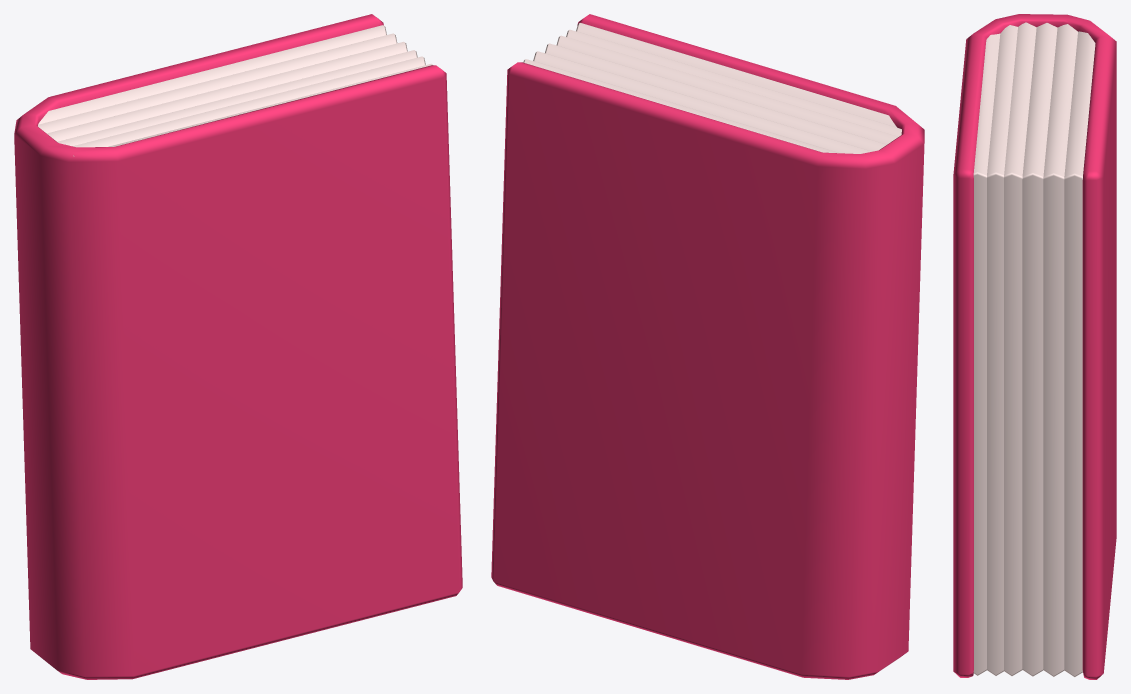
File: Public_8_Book_3.glb
3 views of the same model, side by side, from view 1: azimuth 30°, elevation 25°; view 2: azimuth 150°, elevation 25°; view 3: azimuth 270°, elevation 25° (orthographic). The views are drawn at different scales.
Parts seen in each view (by area): view 1: Public_8_Book_3; view 2: Public_8_Book_3; view 3: Public_8_Book_3.
Boxes of the visible parts, <box> form: Public_8_Book_3: <box>14,14,462,679</box>; Public_8_Book_3: <box>491,14,924,679</box>; Public_8_Book_3: <box>953,14,1116,679</box>.
Bounding box in the file's own units: 1.08 × 1.42 × 0.4093.
1 material, 1 textured.
